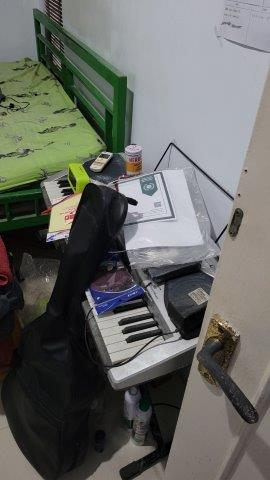kertas: (114, 168, 207, 252), (216, 1, 270, 53)
